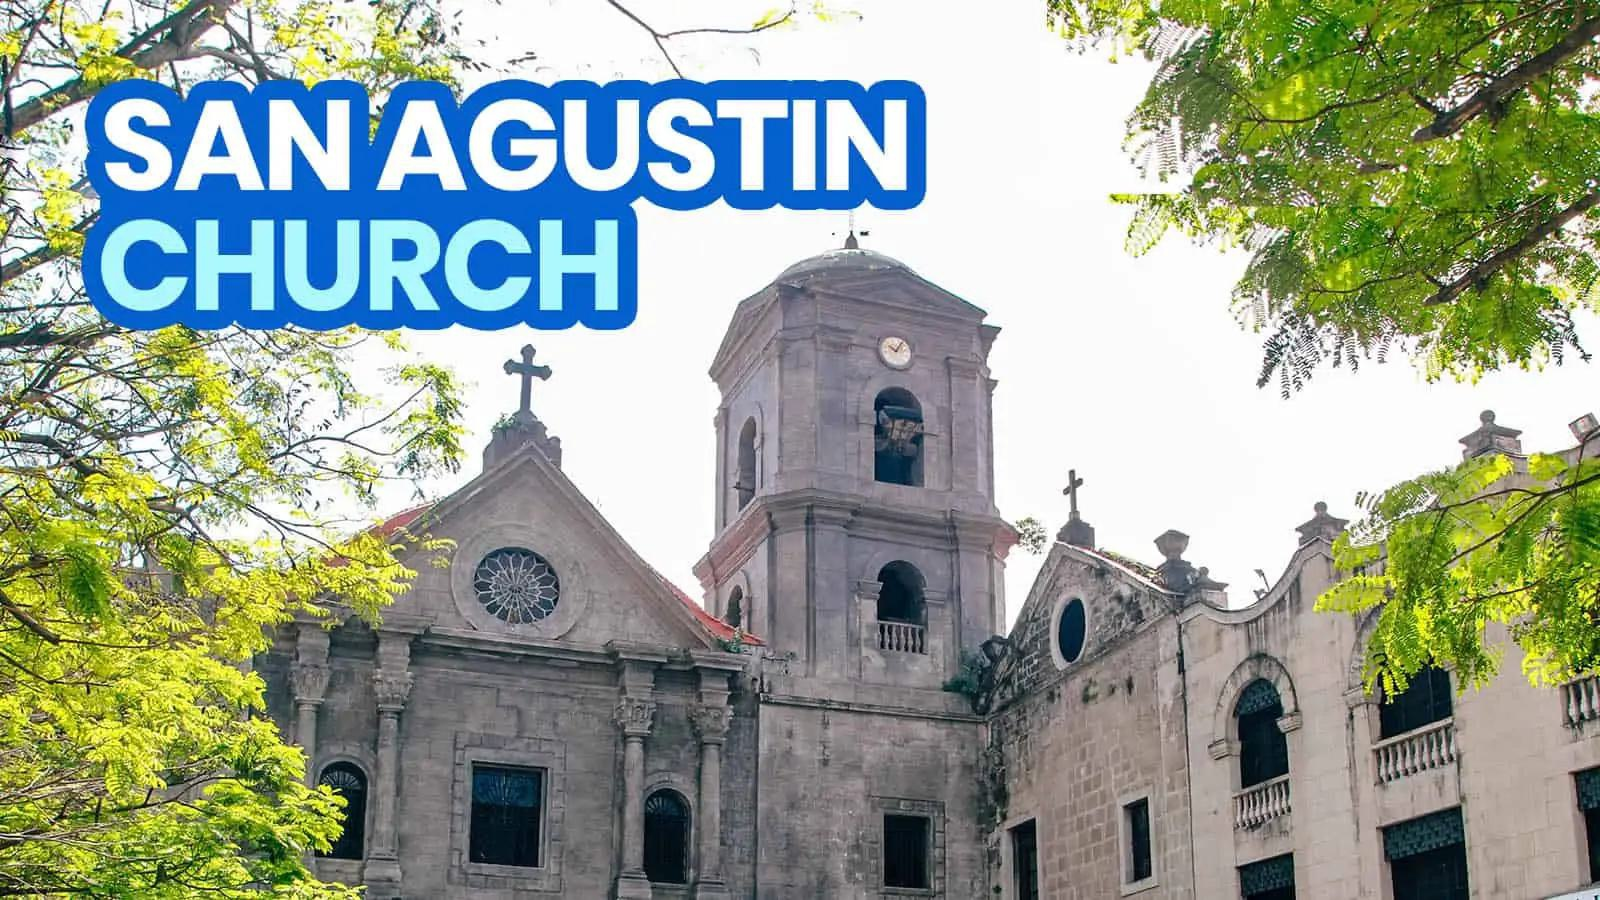san_agustin_church_intramuros_manila: (231, 188, 1011, 900)
